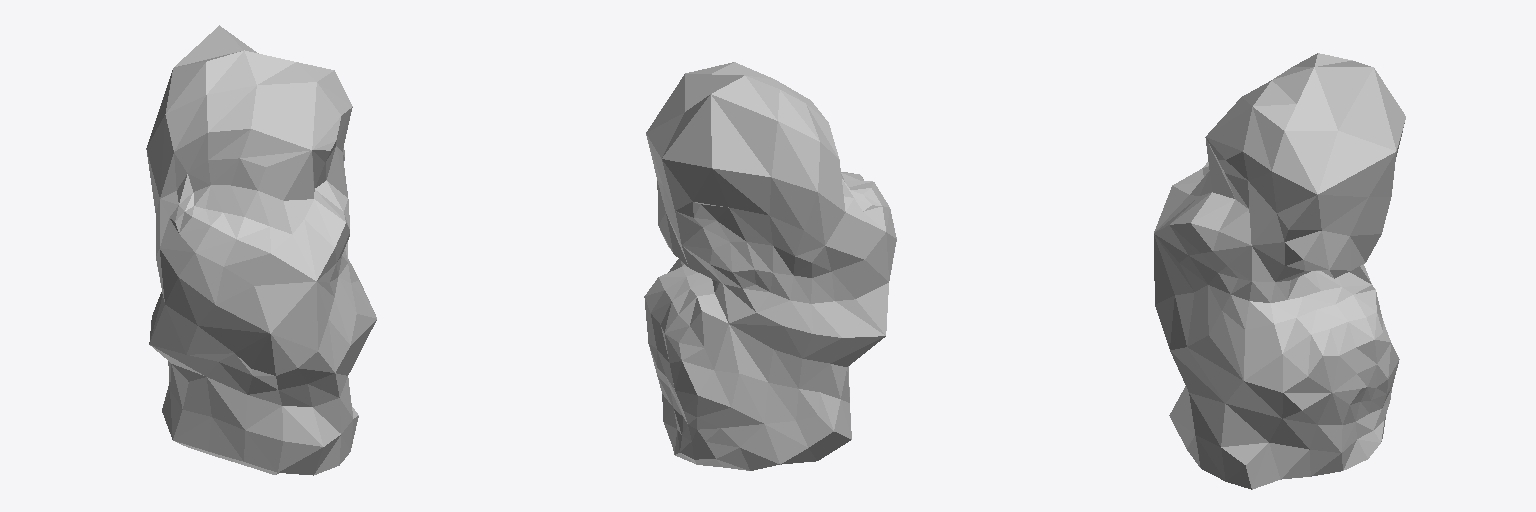
File: Piedra3.obj
The picture shows the model from 3 angles: view 1: azimuth 30°, elevation 25°; view 2: azimuth 150°, elevation 25°; view 3: azimuth 270°, elevation 25°; orthographic projection.
Visible parts, largest first — view 1: g_Box001.004_meshId0_name.009; view 2: g_Box001.004_meshId0_name.009; view 3: g_Box001.004_meshId0_name.009.
Part boxes in pixels (x1,y1,x2,y2): g_Box001.004_meshId0_name.009: (146,25,376,475); g_Box001.004_meshId0_name.009: (644,62,896,470); g_Box001.004_meshId0_name.009: (1154,53,1405,489).
Bounding box in the file's own units: 3.83 × 6.31 × 3.73.